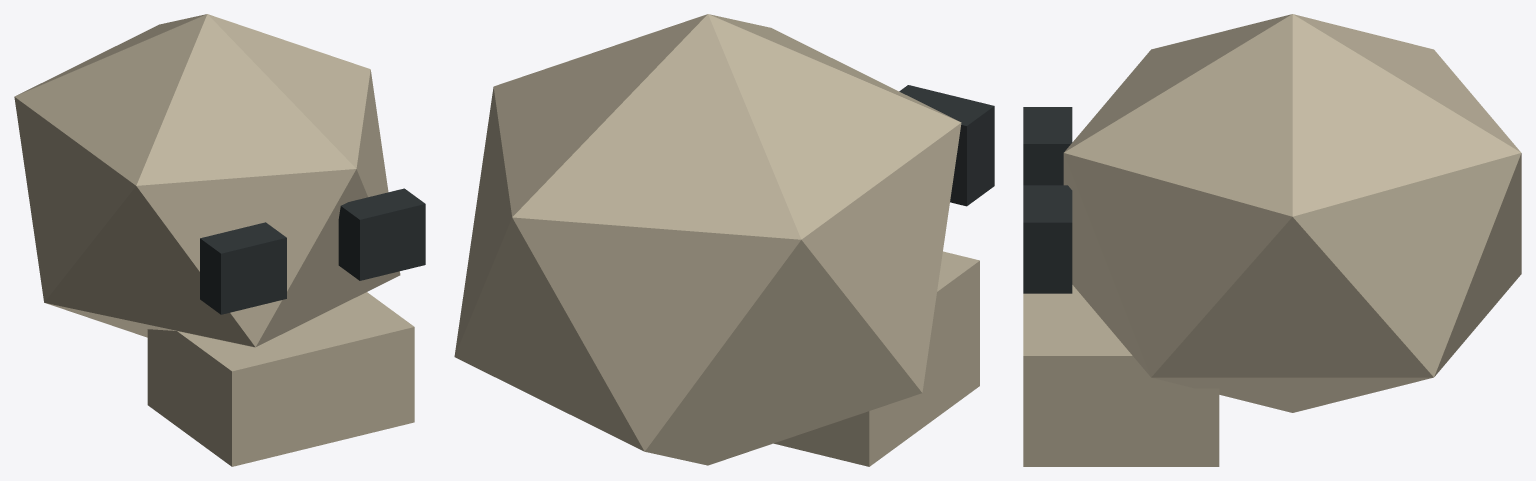
The model's file is skull.glb.
3 views of the same model, side by side, from view 1: azimuth 30°, elevation 25°; view 2: azimuth 150°, elevation 25°; view 3: azimuth 270°, elevation 25° (orthographic). The views are drawn at different scales.
Visible parts, largest first — view 1: cranium, jaw, socket.001, socket; view 2: cranium, jaw, socket; view 3: cranium, jaw, socket.001, socket.
Part boxes in pixels (box(x1,y1,x2,y2)): cranium: box(14, 14, 400, 347); jaw: box(147, 292, 414, 466); socket.001: box(338, 188, 425, 280); socket: box(200, 222, 286, 314); cranium: box(454, 14, 961, 465); jaw: box(773, 251, 979, 466); socket: box(899, 85, 994, 206); cranium: box(1063, 14, 1521, 412); jaw: box(1023, 285, 1219, 466); socket.001: box(1023, 185, 1072, 293); socket: box(1023, 107, 1072, 185).
Bounding box in the file's own units: 0.0894 × 0.0905 × 0.1018.
